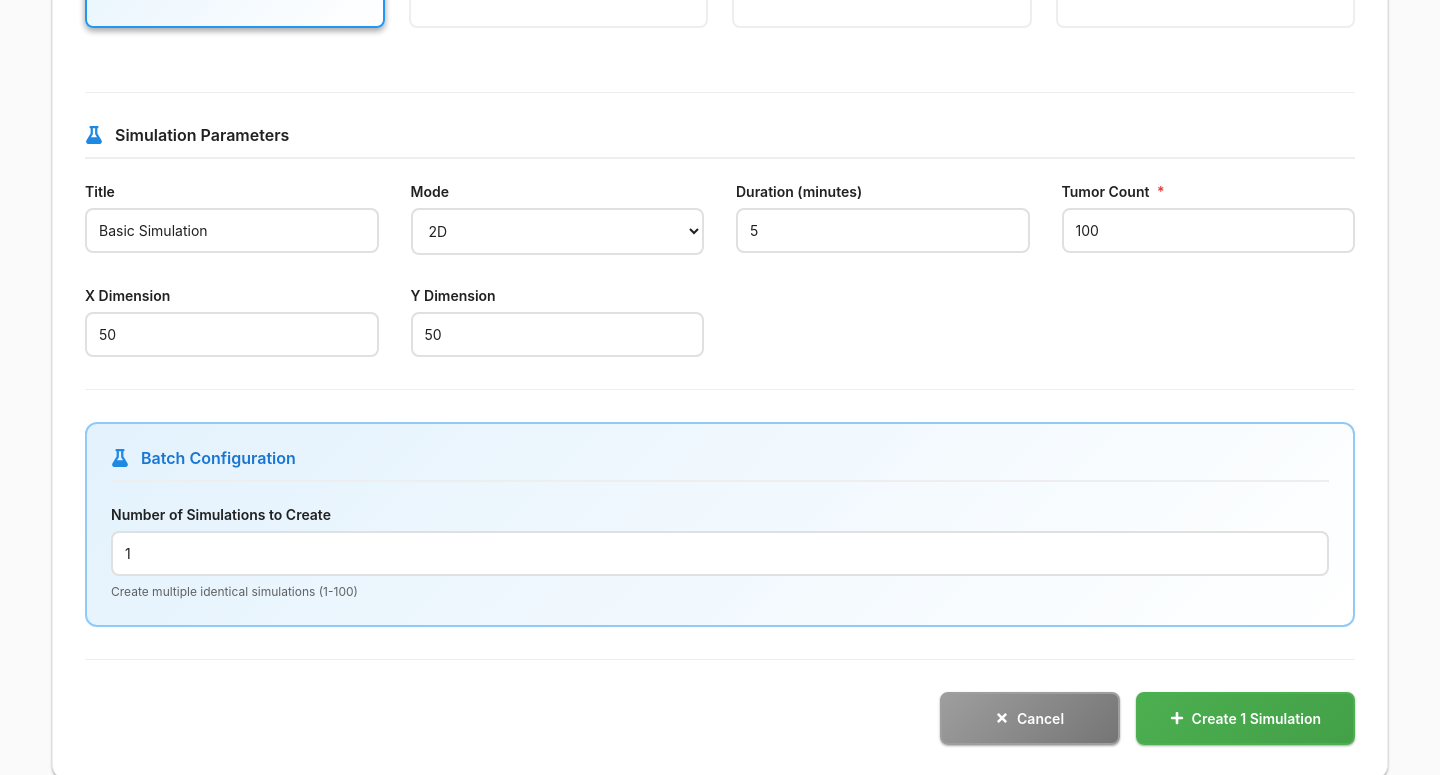
Scenario: CreateSimulation Component › handles API errors gracefully
(page scrolled)
Step 1. Click the button "Create 1 Simulation" → (1245, 718), box [1136, 692, 1355, 745]
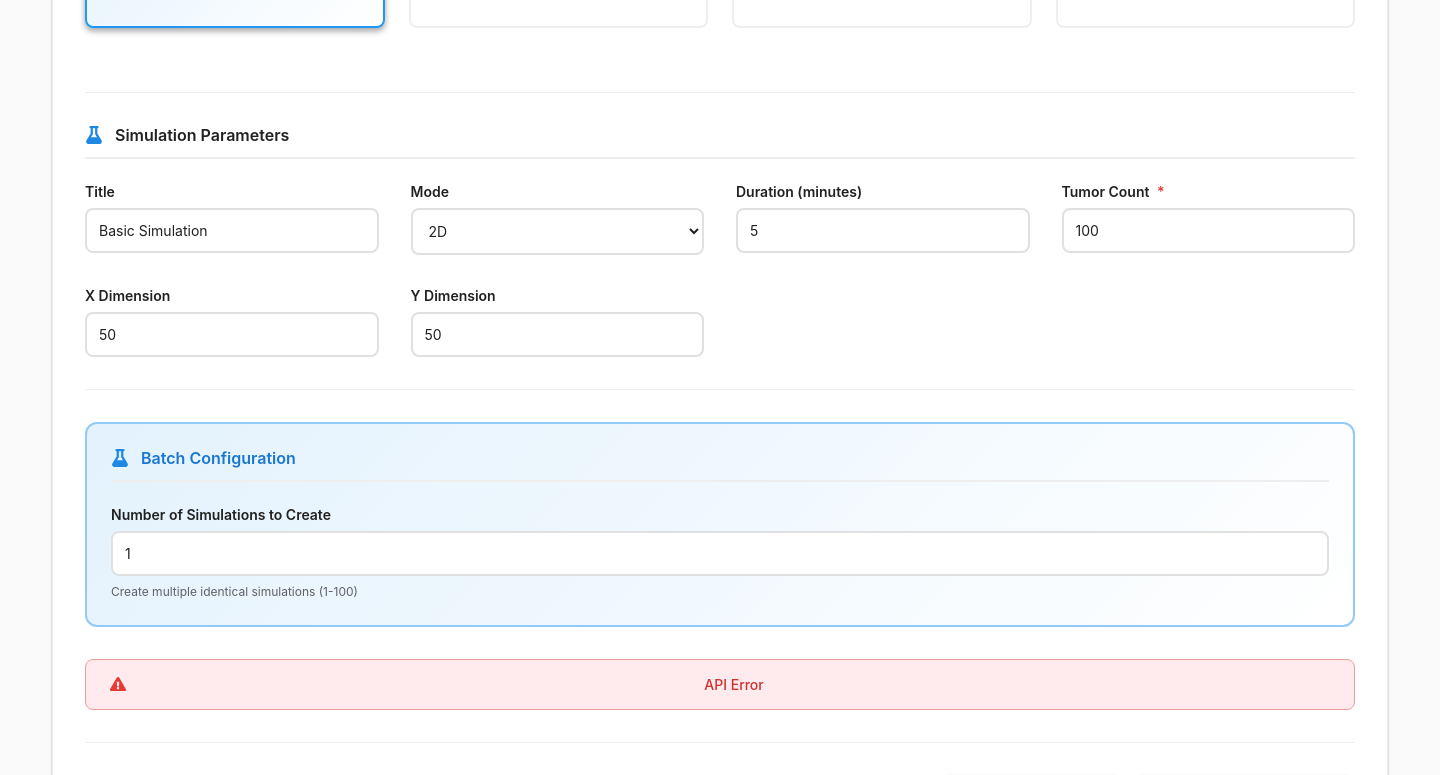
Now the text "API Error" is shown, box [704, 676, 764, 693]
